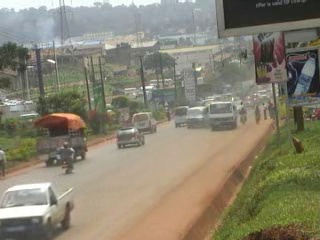Car: (115, 124, 147, 150), (172, 104, 190, 127)
Motorcycle: (55, 140, 76, 176), (237, 105, 249, 127)
